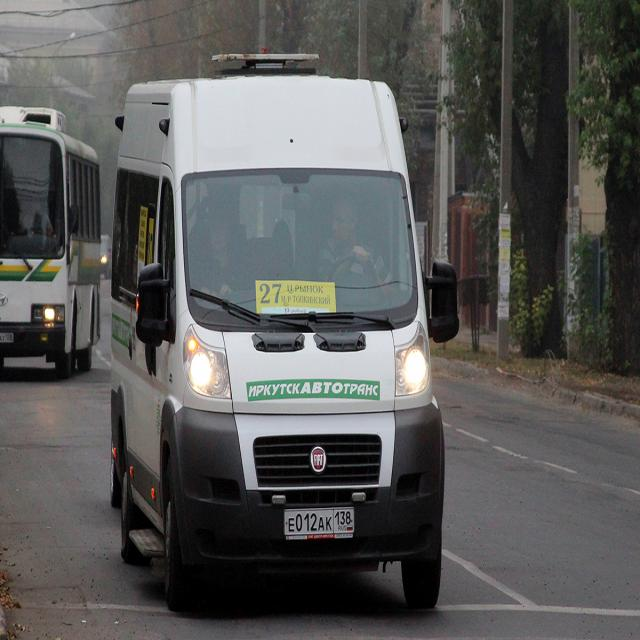number-of-bus: (259, 281, 284, 307)
